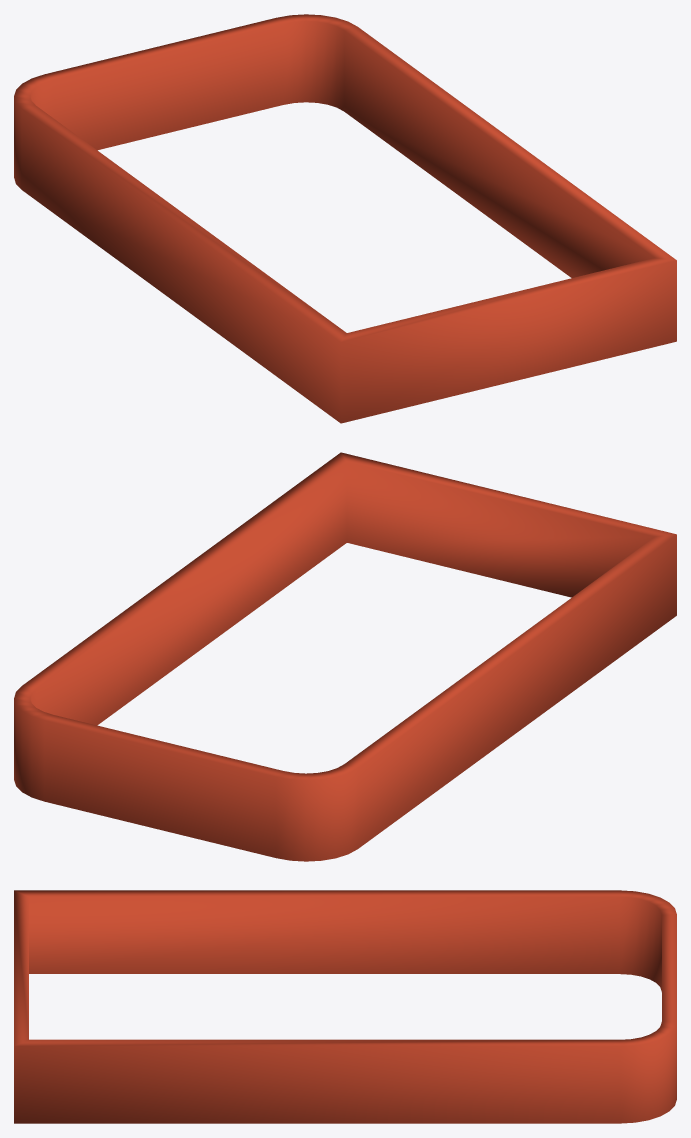
File: PazzleGameEnv.fbx
3 views of the same model, one above another, from view 1: azimuth 30°, elevation 25°; view 2: azimuth 150°, elevation 25°; view 3: azimuth 270°, elevation 25° (orthographic). The views are drawn at different scales.
Visible parts, largest first — view 1: Cube; view 2: Cube; view 3: Cube.
Part boxes in pixels (x1=…): Cube: x1=14, y1=14, x2=676, y2=423; Cube: x1=14, y1=452, x2=676, y2=861; Cube: x1=14, y1=890, x2=676, y2=1123.
Bounding box in the file's own units: 606 × 140 × 1089.
